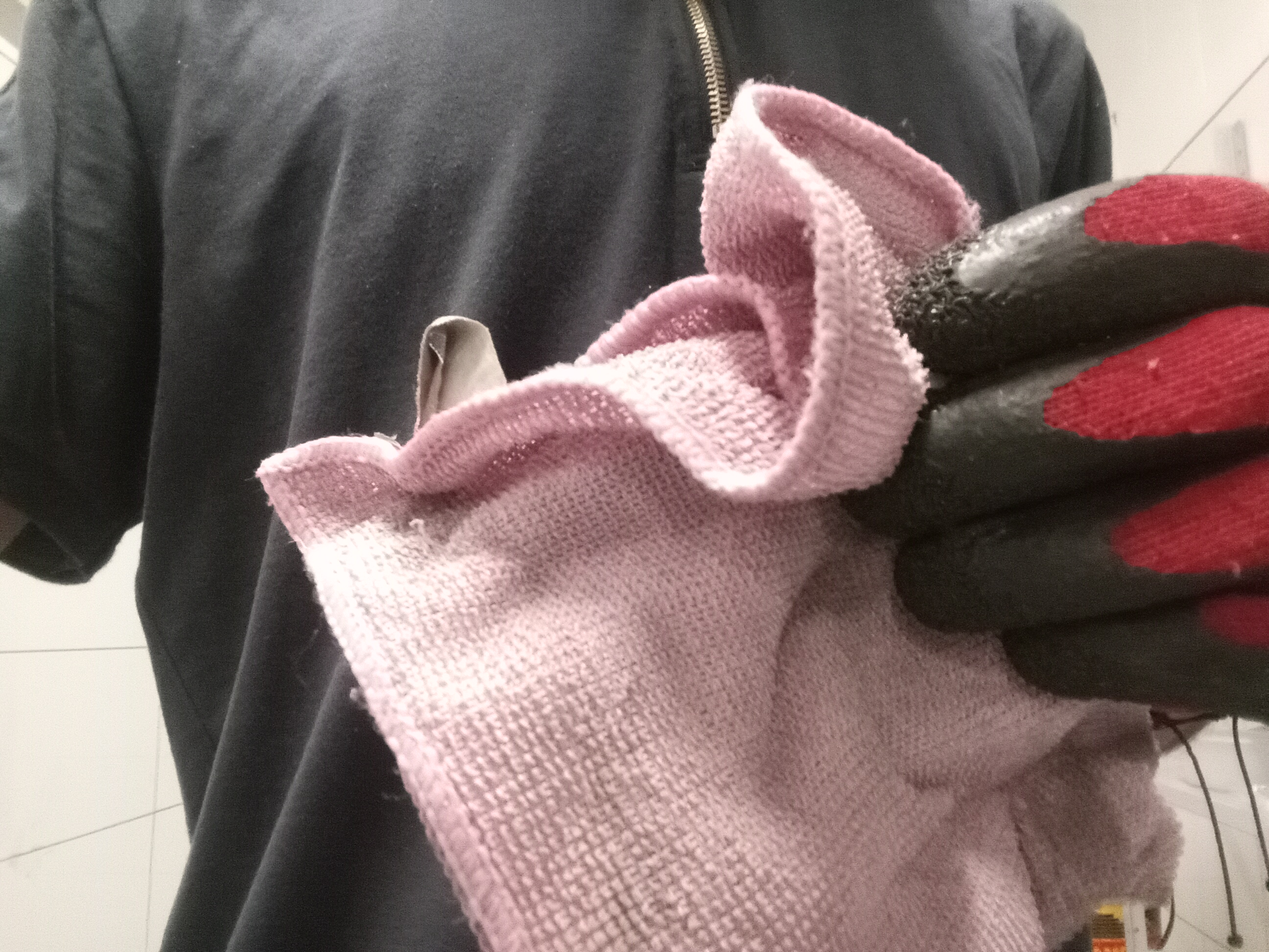Ordinario: (256, 80, 1181, 952)
